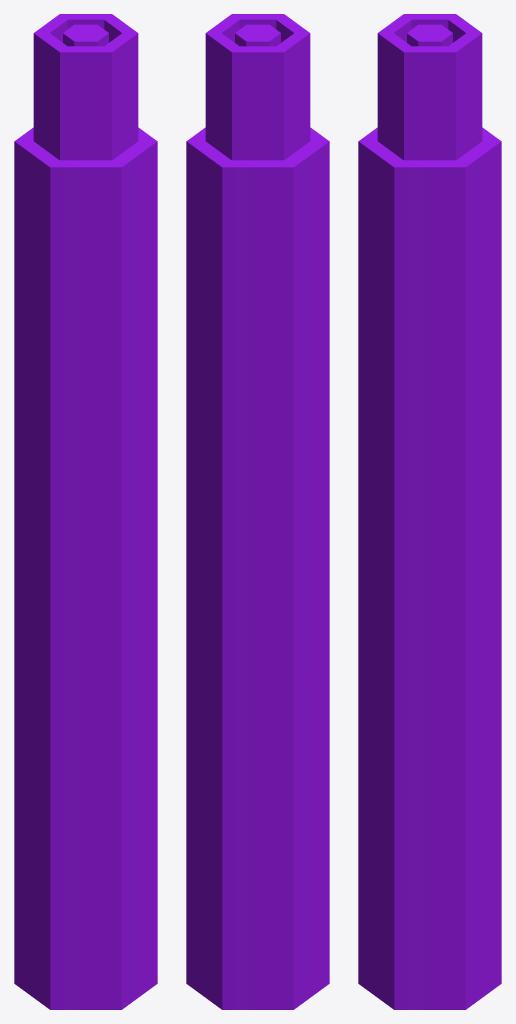
File: pillar.fbx
The picture shows the model from 3 angles, left to right: view 1: azimuth 30°, elevation 25°; view 2: azimuth 150°, elevation 25°; view 3: azimuth 270°, elevation 25°; orthographic projection.
Parts seen in each view (by area): view 1: pasted__Pillar2; view 2: pasted__Pillar2; view 3: pasted__Pillar2.
Boxes of the visible parts, x1,y1,x2,y2 form: pasted__Pillar2: (14,14,157,1009); pasted__Pillar2: (186,14,329,1009); pasted__Pillar2: (358,14,501,1009).
Bounding box in the file's own units: 0.433 × 3.67 × 0.5.
